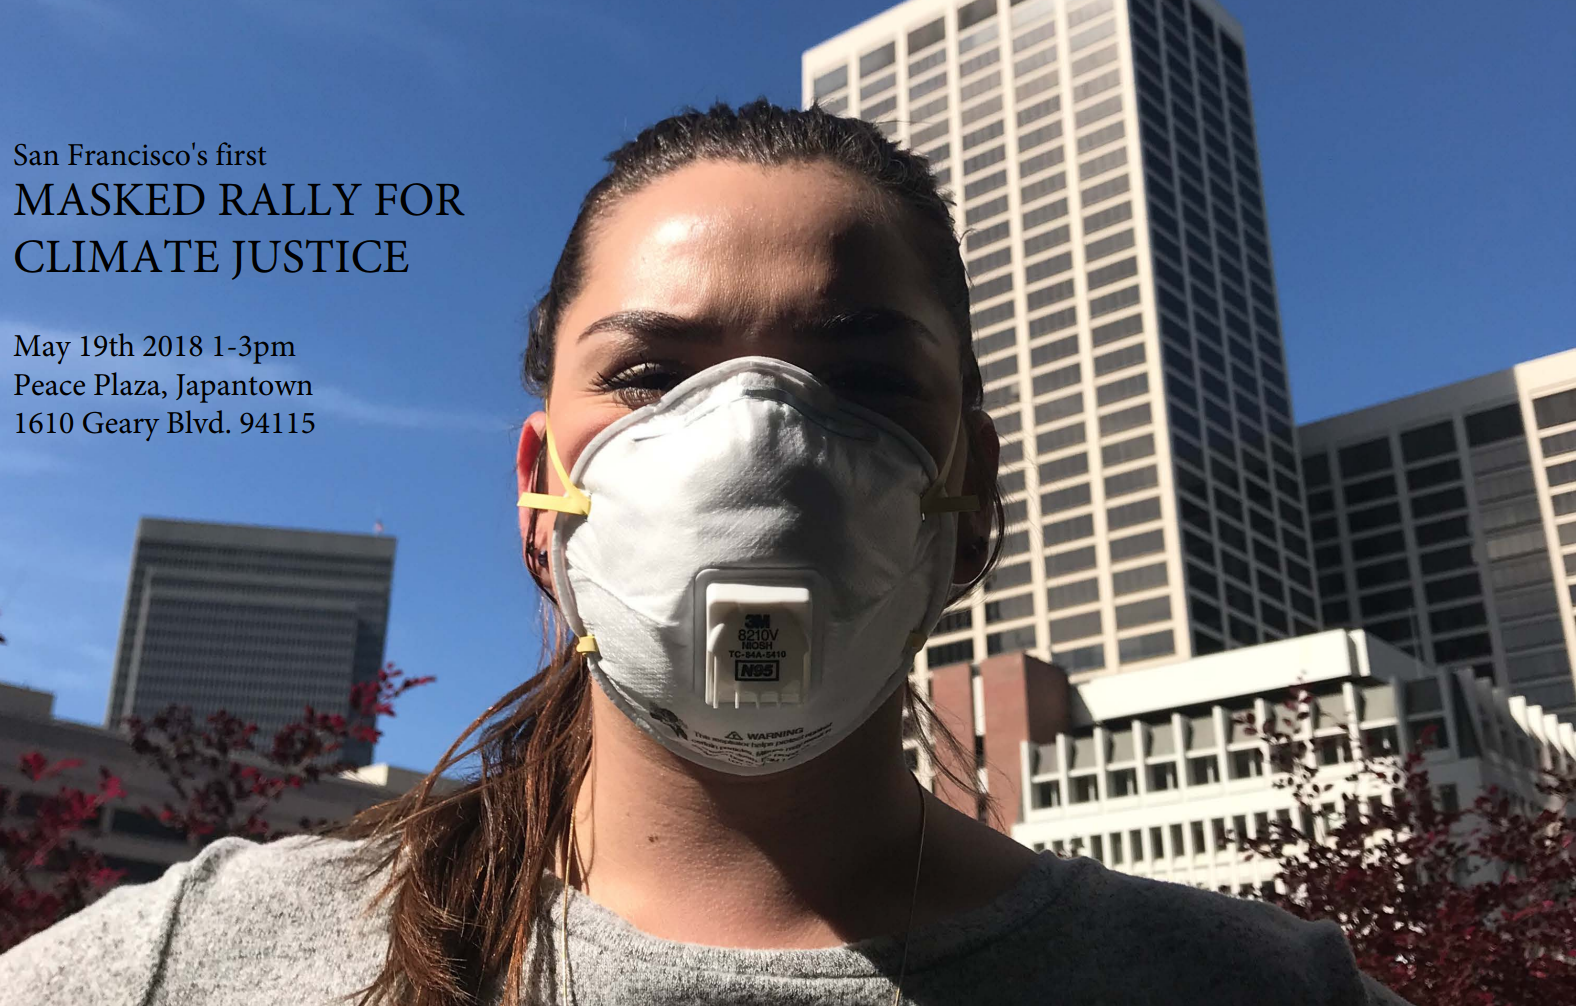n95: (528, 354, 981, 781)
